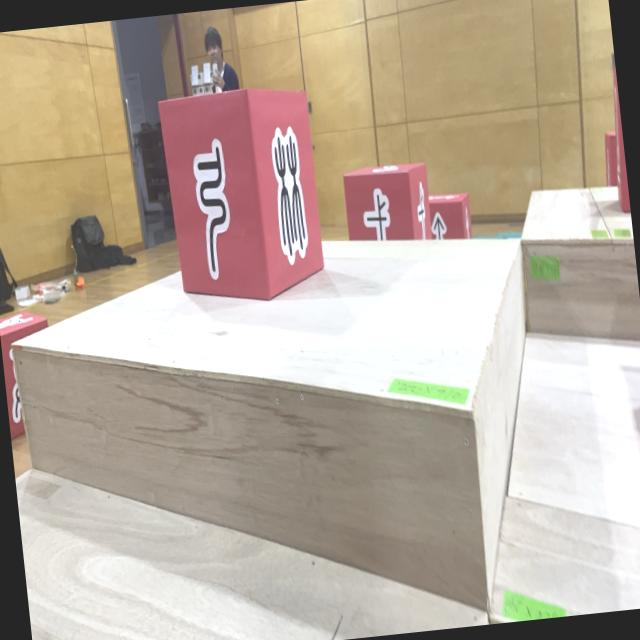12: (430, 210, 448, 239)
2: (267, 122, 311, 266)
4: (188, 136, 238, 285)
9: (358, 184, 394, 243), (413, 177, 429, 240)
fighter: (156, 80, 327, 311), (341, 160, 433, 247), (0, 306, 59, 441), (602, 51, 630, 212), (427, 190, 473, 242), (600, 130, 621, 188)
